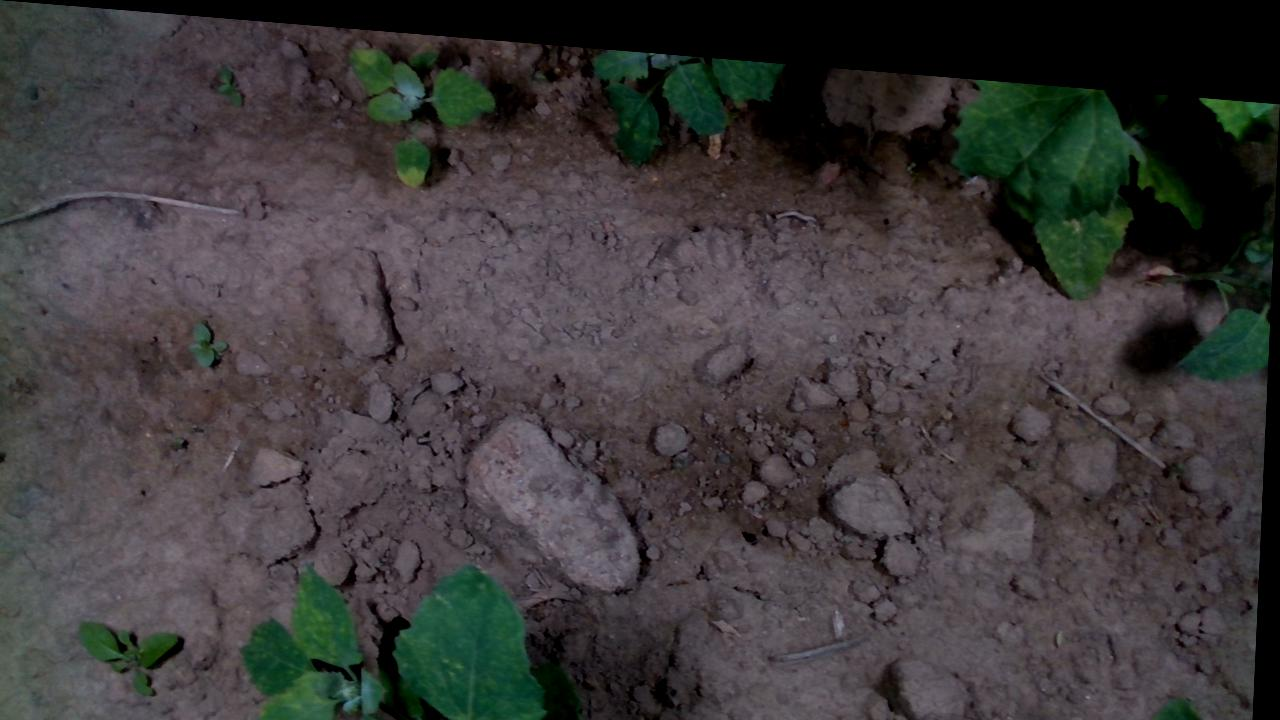weed: (180, 311, 226, 368), (213, 57, 248, 106)
